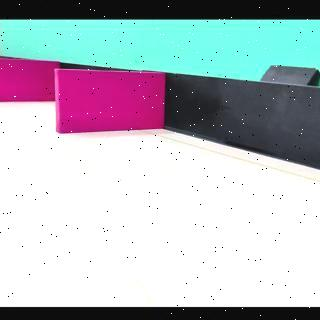xparking: (58, 74, 164, 134), (0, 61, 54, 102)
